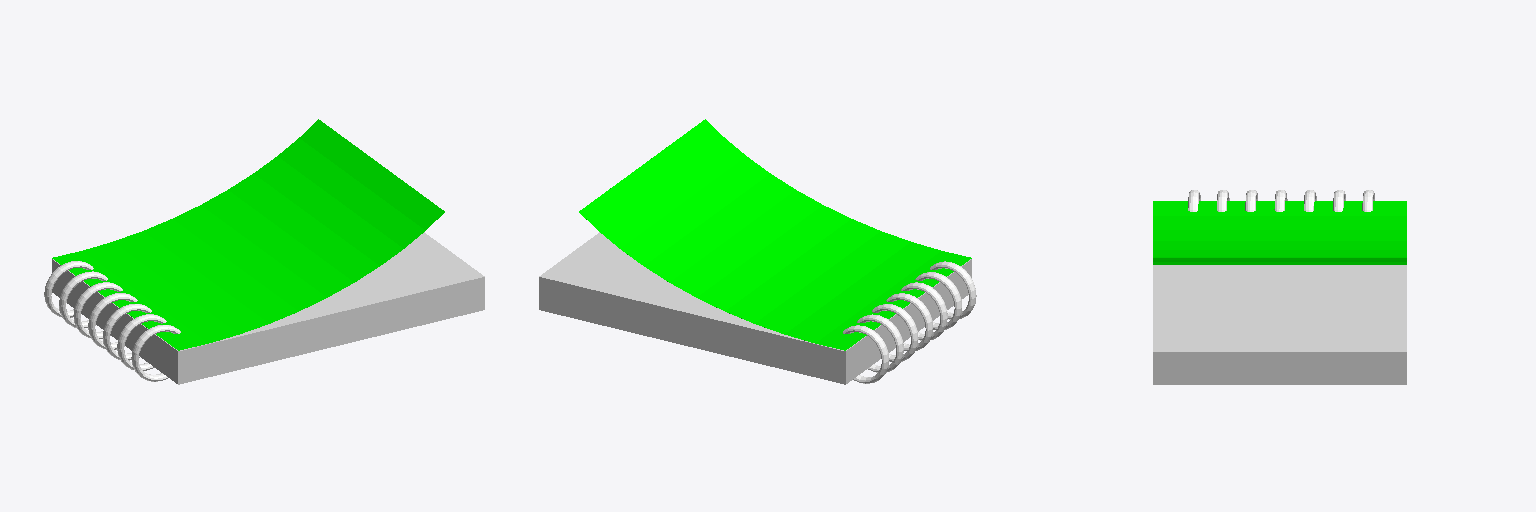
Rendered from notebook.obj.
3 views of the same model, side by side, from view 1: azimuth 30°, elevation 25°; view 2: azimuth 150°, elevation 25°; view 3: azimuth 270°, elevation 25° (orthographic).
Visible parts, largest first — view 1: ChamferBo0, ChamferBox, Torus007, Torus006, Torus002, Torus005, Torus003, Torus001, Torus004; view 2: ChamferBo0, ChamferBox, Torus001, Torus002, Torus006, Torus003, Torus005, Torus004, Torus007; view 3: ChamferBox, ChamferBo0.
Boxes of the visible parts, <box> form: ChamferBo0: <box>52,119,444,350</box>; ChamferBox: <box>52,232,484,384</box>; Torus007: <box>131,325,180,381</box>; Torus006: <box>117,314,166,370</box>; Torus002: <box>59,271,107,327</box>; Torus005: <box>103,304,151,360</box>; Torus003: <box>73,282,122,338</box>; Torus001: <box>44,261,93,317</box>; Torus004: <box>88,293,137,349</box>; ChamferBo0: <box>579,119,971,350</box>; ChamferBox: <box>539,232,971,384</box>; Torus001: <box>843,325,888,383</box>; Torus002: <box>857,314,903,372</box>; Torus006: <box>915,272,961,329</box>; Torus003: <box>872,304,918,361</box>; Torus005: <box>901,282,947,340</box>; Torus004: <box>886,293,932,350</box>; Torus007: <box>930,261,976,319</box>; ChamferBox: <box>1153,265,1406,384</box>; ChamferBo0: <box>1153,201,1406,264</box>.
Bounding box in the file's own units: 0.6095 × 0.2103 × 0.4041.